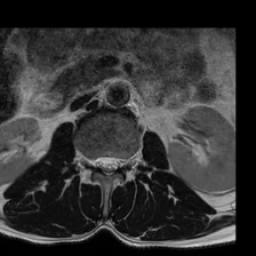CCS_normal: (105, 148, 113, 182)
LFS_normal: (121, 149, 129, 175)
LLS_normal: (113, 149, 121, 176)
RFS_normal: (88, 149, 96, 175)
RLS_normal: (96, 148, 105, 177)
